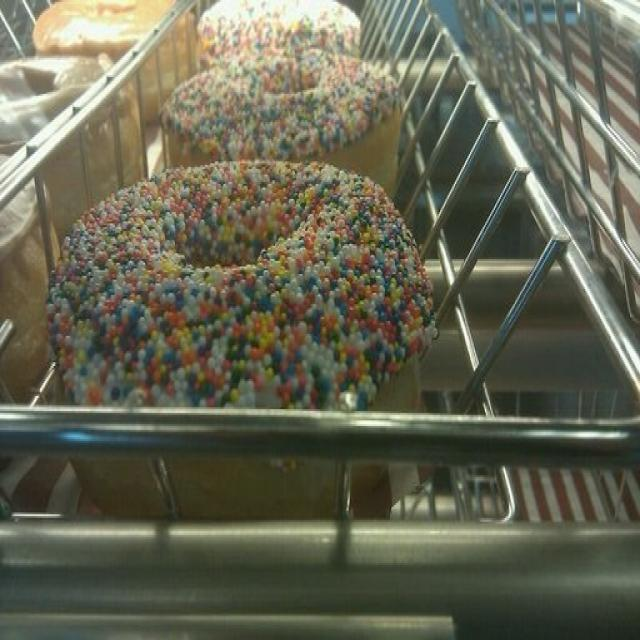Donuts: (35, 2, 460, 434)
